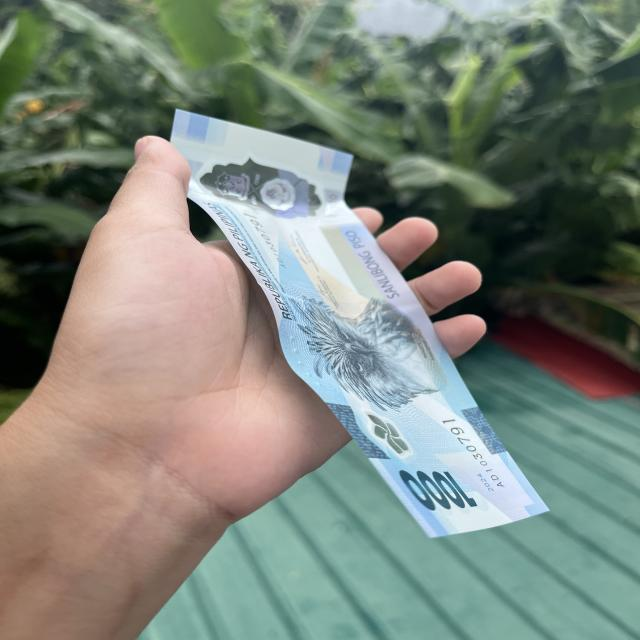clear_window: (206, 156, 324, 217)
eagle: (293, 303, 426, 403)
sampaguita: (358, 408, 423, 459)
serial_number: (432, 410, 521, 497)
